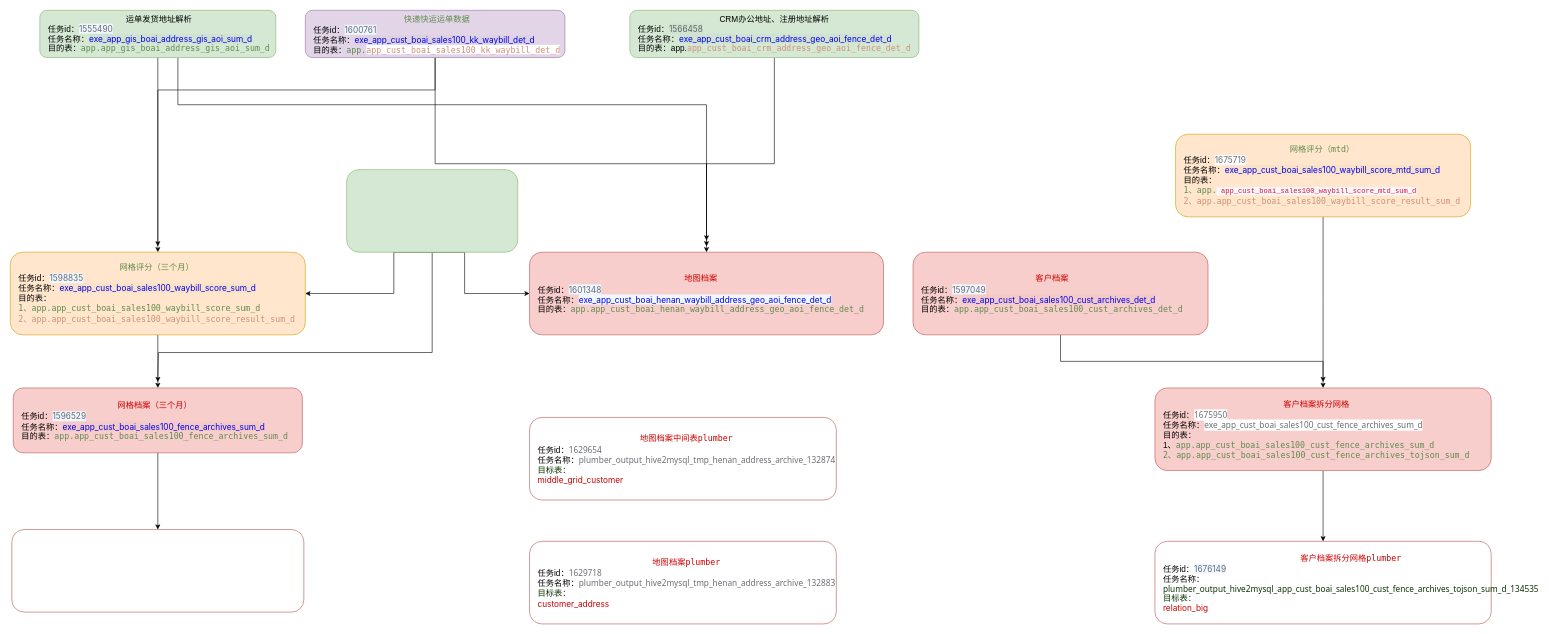
This 1549x634 diagram has some shape labels left out. The shapes that lost their labels are listed below. From the top down, each one's centre as x and y in pixels, then its label:
At (x=432, y=210): "网格 dev.dev_wanggehua_shidian_46 grid_code aoi_code cover_radio".
At (x=157, y=570): "网格档案2新签汇总".
